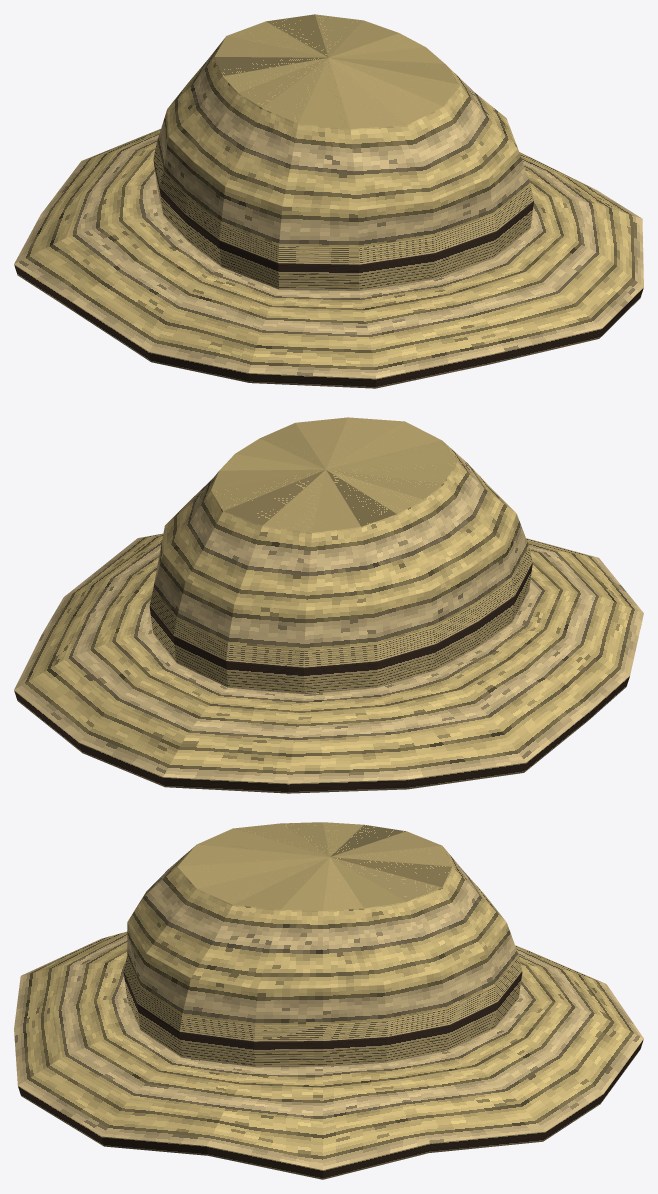
Rendered from ChapeuPalha.glb.
3 views of the same model, one above another, from view 1: azimuth 30°, elevation 25°; view 2: azimuth 150°, elevation 25°; view 3: azimuth 270°, elevation 25° (orthographic). The views are drawn at different scales.
Parts seen in each view (by area): view 1: ChapeuPalha.001; view 2: ChapeuPalha.001; view 3: ChapeuPalha.001.
Part boxes in pixels (x1,y1,x2,y2): ChapeuPalha.001: (14, 14, 643, 388); ChapeuPalha.001: (14, 417, 643, 793); ChapeuPalha.001: (14, 822, 643, 1179).
Size of the model in its own units: 0.3367 by 0.126 by 0.3612.
1 material, 1 textured.
